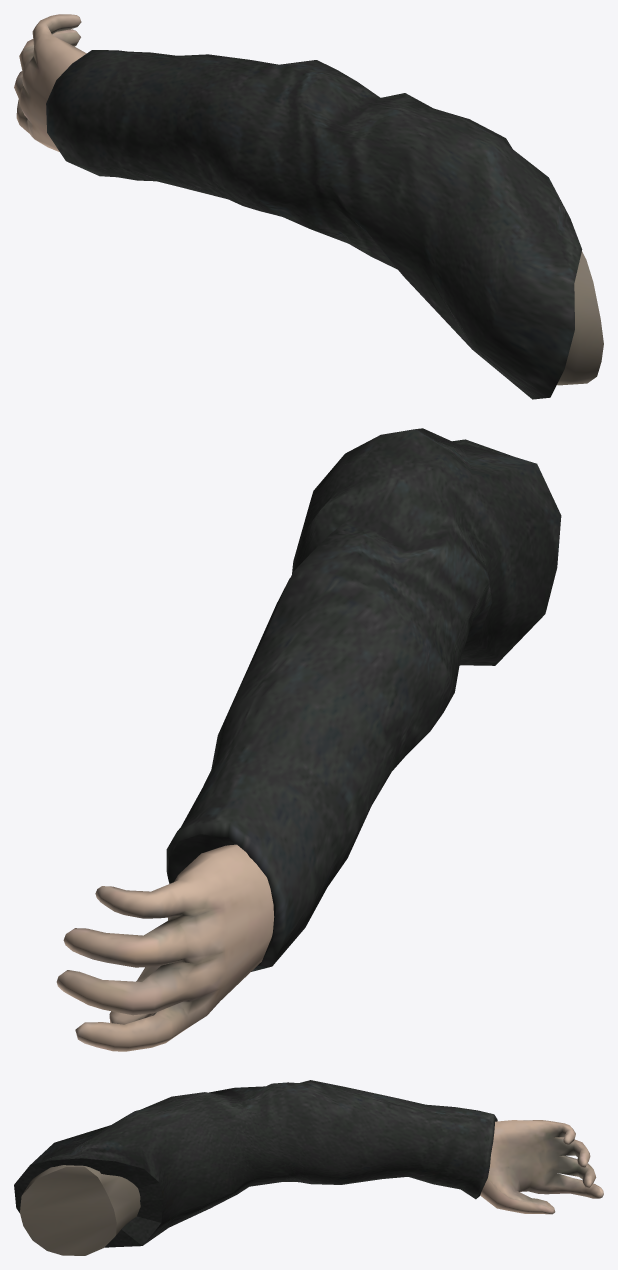
Rendered from dest_nt_nuked_male_01_arm_right_LOD0.obj.
The picture shows the model from 3 angles, top to bottom: view 1: azimuth 30°, elevation 25°; view 2: azimuth 150°, elevation 25°; view 3: azimuth 270°, elevation 25°; orthographic projection. The views are drawn at different scales.
Visible parts, largest first — view 1: mtl_nt_2020_manne_male01_jacket1, mtl_nt_2020_manne_male01_head1; view 2: mtl_nt_2020_manne_male01_jacket1, mtl_nt_2020_manne_male01_head1; view 3: mtl_nt_2020_manne_male01_jacket1, mtl_nt_2020_manne_male01_head1.
Part boxes in pixels (<box>): mtl_nt_2020_manne_male01_jacket1: <box>46,50,582,399</box>; mtl_nt_2020_manne_male01_head1: <box>14,14,603,385</box>; mtl_nt_2020_manne_male01_jacket1: <box>166,428,561,971</box>; mtl_nt_2020_manne_male01_head1: <box>56,844,274,1051</box>; mtl_nt_2020_manne_male01_jacket1: <box>14,1080,497,1247</box>; mtl_nt_2020_manne_male01_head1: <box>20,1120,603,1255</box>.
Bounding box in the file's own units: 21.44 × 20.6 × 74.16.
